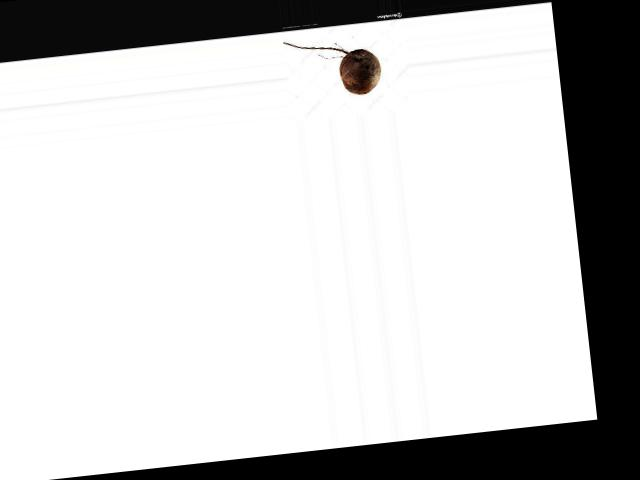beet: (282, 31, 382, 101)
